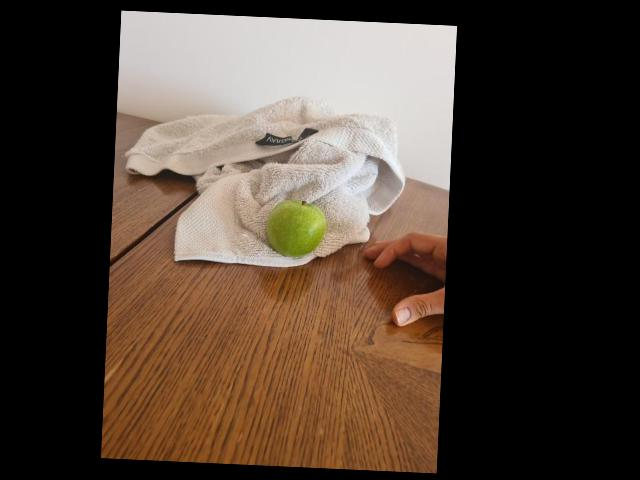apple: (267, 199, 331, 263)
